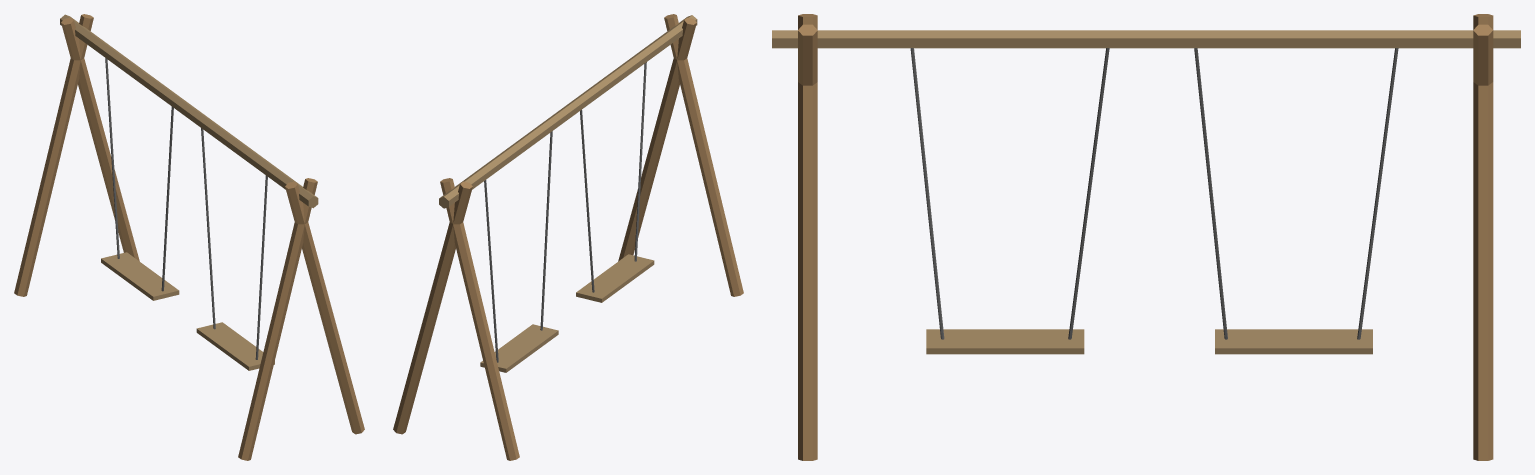
Rendered from Swings.fbx.
The picture shows the model from 3 angles, left to right: view 1: azimuth 30°, elevation 25°; view 2: azimuth 150°, elevation 25°; view 3: azimuth 270°, elevation 25°; orthographic projection. The views are drawn at different scales.
Visible parts, largest first — view 1: Cylinder.004, Cylinder.001, Cylinder.003, Cylinder, Cylinder.002, Cube.001, Cube, Cylinder.007, Cylinder.008, Cylinder.005, Cylinder.006; view 2: Cylinder.004, Cylinder.003, Cylinder.001, Cylinder.002, Cylinder, Cube, Cube.001, Cylinder.005, Cylinder.006, Cylinder.008, Cylinder.007; view 3: Cylinder.004, Cylinder.002, Cylinder, Cube, Cube.001, Cylinder.003, Cylinder.006, Cylinder.008, Cylinder.005, Cylinder.007, Cylinder.001.
Part boxes in pixels (x1,y1,x2,y2): Cylinder.004: (60,14,318,208); Cylinder.001: (238,178,317,460); Cylinder.003: (14,14,93,296); Cylinder: (285,181,364,434); Cylinder.002: (61,17,139,261); Cube.001: (101,252,179,300); Cube: (196,322,274,370); Cylinder.007: (105,58,119,258); Cylinder.008: (201,128,215,329); Cylinder.005: (161,106,173,291); Cylinder.006: (255,175,267,359); Cylinder.004: (439,15,697,208); Cylinder.003: (440,178,519,460); Cylinder.001: (664,14,743,296); Cylinder.002: (393,181,472,434); Cylinder: (618,17,696,261); Cube: (576,254,654,302); Cube.001: (480,324,558,372); Cylinder.005: (540,131,552,330); Cylinder.006: (634,62,646,261); Cylinder.008: (580,110,594,292); Cylinder.007: (484,180,498,362); Cylinder.004: (772,30,1520,48); Cylinder.002: (1473,14,1493,460); Cylinder: (798,14,817,460); Cube: (926,329,1084,354); Cube.001: (1215,329,1372,354); Cylinder.003: (1473,24,1493,85); Cylinder.006: (910,48,944,339); Cylinder.008: (1068,48,1109,339); Cylinder.005: (1194,48,1227,339); Cylinder.007: (1357,48,1398,339); Cylinder.001: (798,24,817,85).
Bounding box in the file's own units: 954 × 1952 × 3322.
